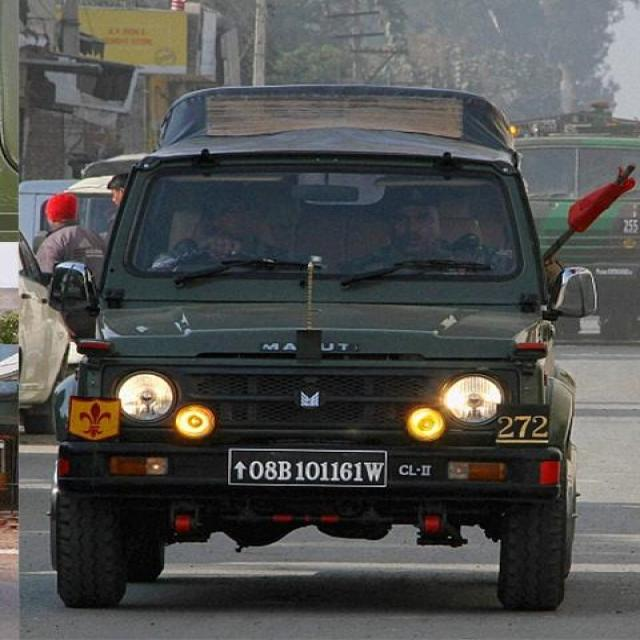0: (248, 461, 264, 480), (305, 461, 319, 481)
1: (320, 462, 330, 482), (330, 461, 340, 481), (294, 462, 304, 481)
2: (496, 414, 516, 441), (532, 416, 550, 439)
6: (339, 462, 352, 481), (353, 462, 364, 483)
7: (515, 414, 531, 438)
8: (265, 462, 277, 481)
b: (278, 461, 292, 481)
c: (399, 464, 409, 476), (410, 465, 418, 476)
w: (366, 461, 383, 482)
